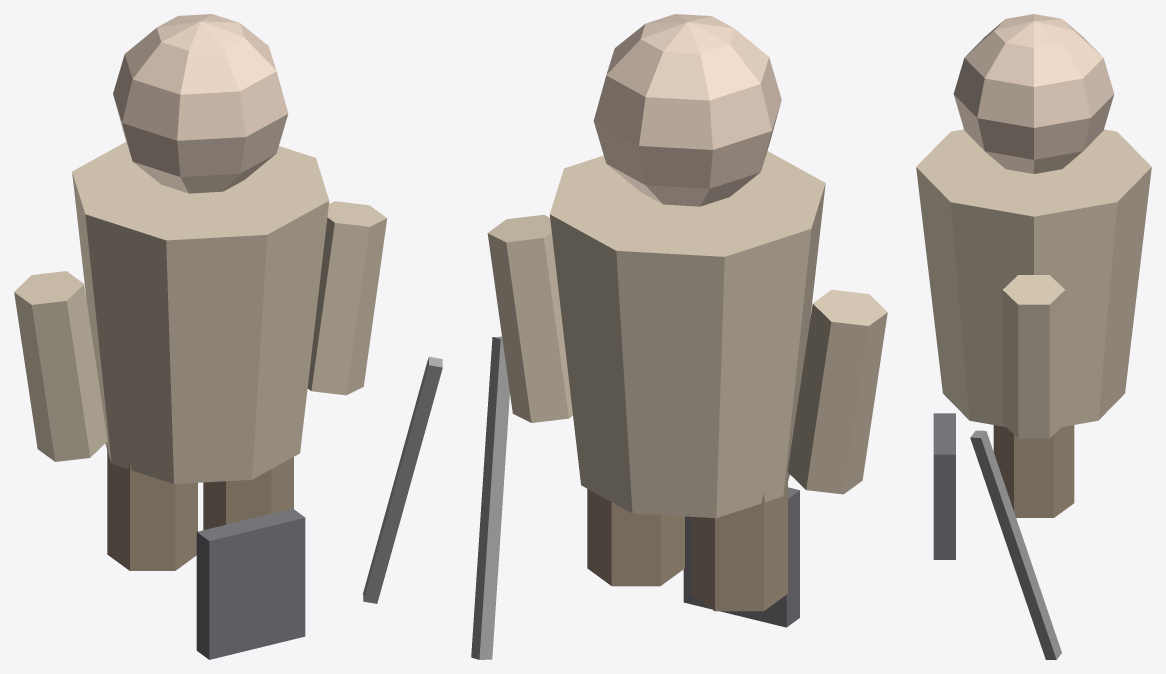
Rendered from smelter_worker.glb.
The picture shows the model from 3 angles, left to right: view 1: azimuth 30°, elevation 25°; view 2: azimuth 150°, elevation 25°; view 3: azimuth 270°, elevation 25°; orthographic projection. The views are drawn at different scales.
Parts seen in each view (by area): view 1: smelter_worker; view 2: smelter_worker; view 3: smelter_worker.
Part boxes in pixels (x1,y1,x2,y2): smelter_worker: (14, 14, 442, 659); smelter_worker: (471, 14, 887, 659); smelter_worker: (916, 14, 1151, 659).
Bounding box in the file's own units: 0.4461 × 0.6913 × 0.264.
